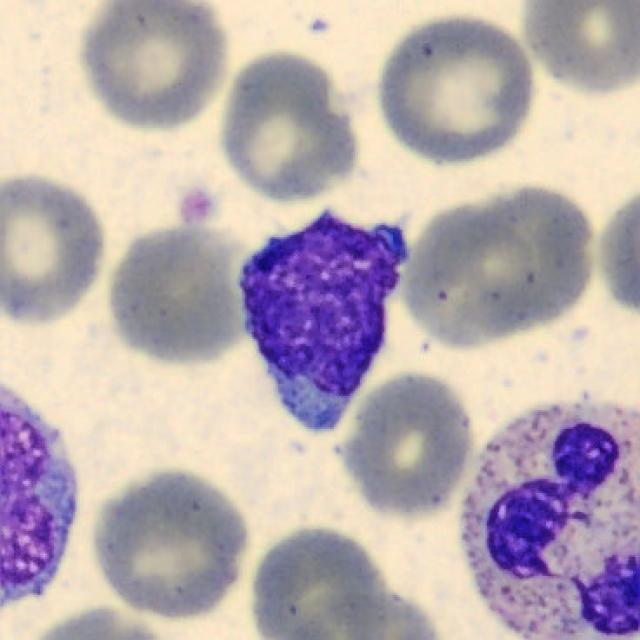Linfocito: (240, 213, 409, 432)
Neutrofilo segmentado: (463, 398, 640, 640)
